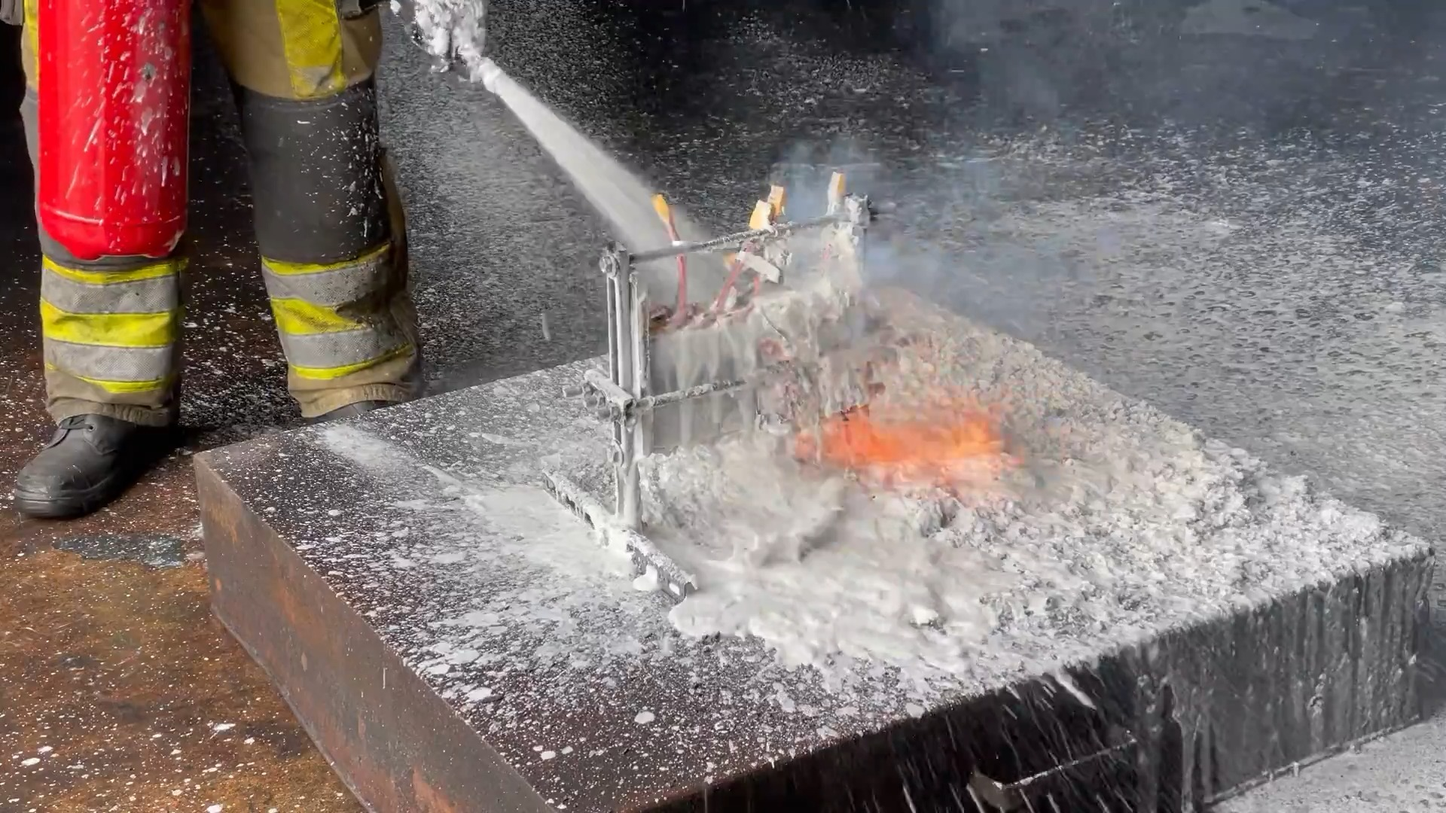fire: (789, 363, 1030, 490)
smoke: (746, 54, 1079, 359)
